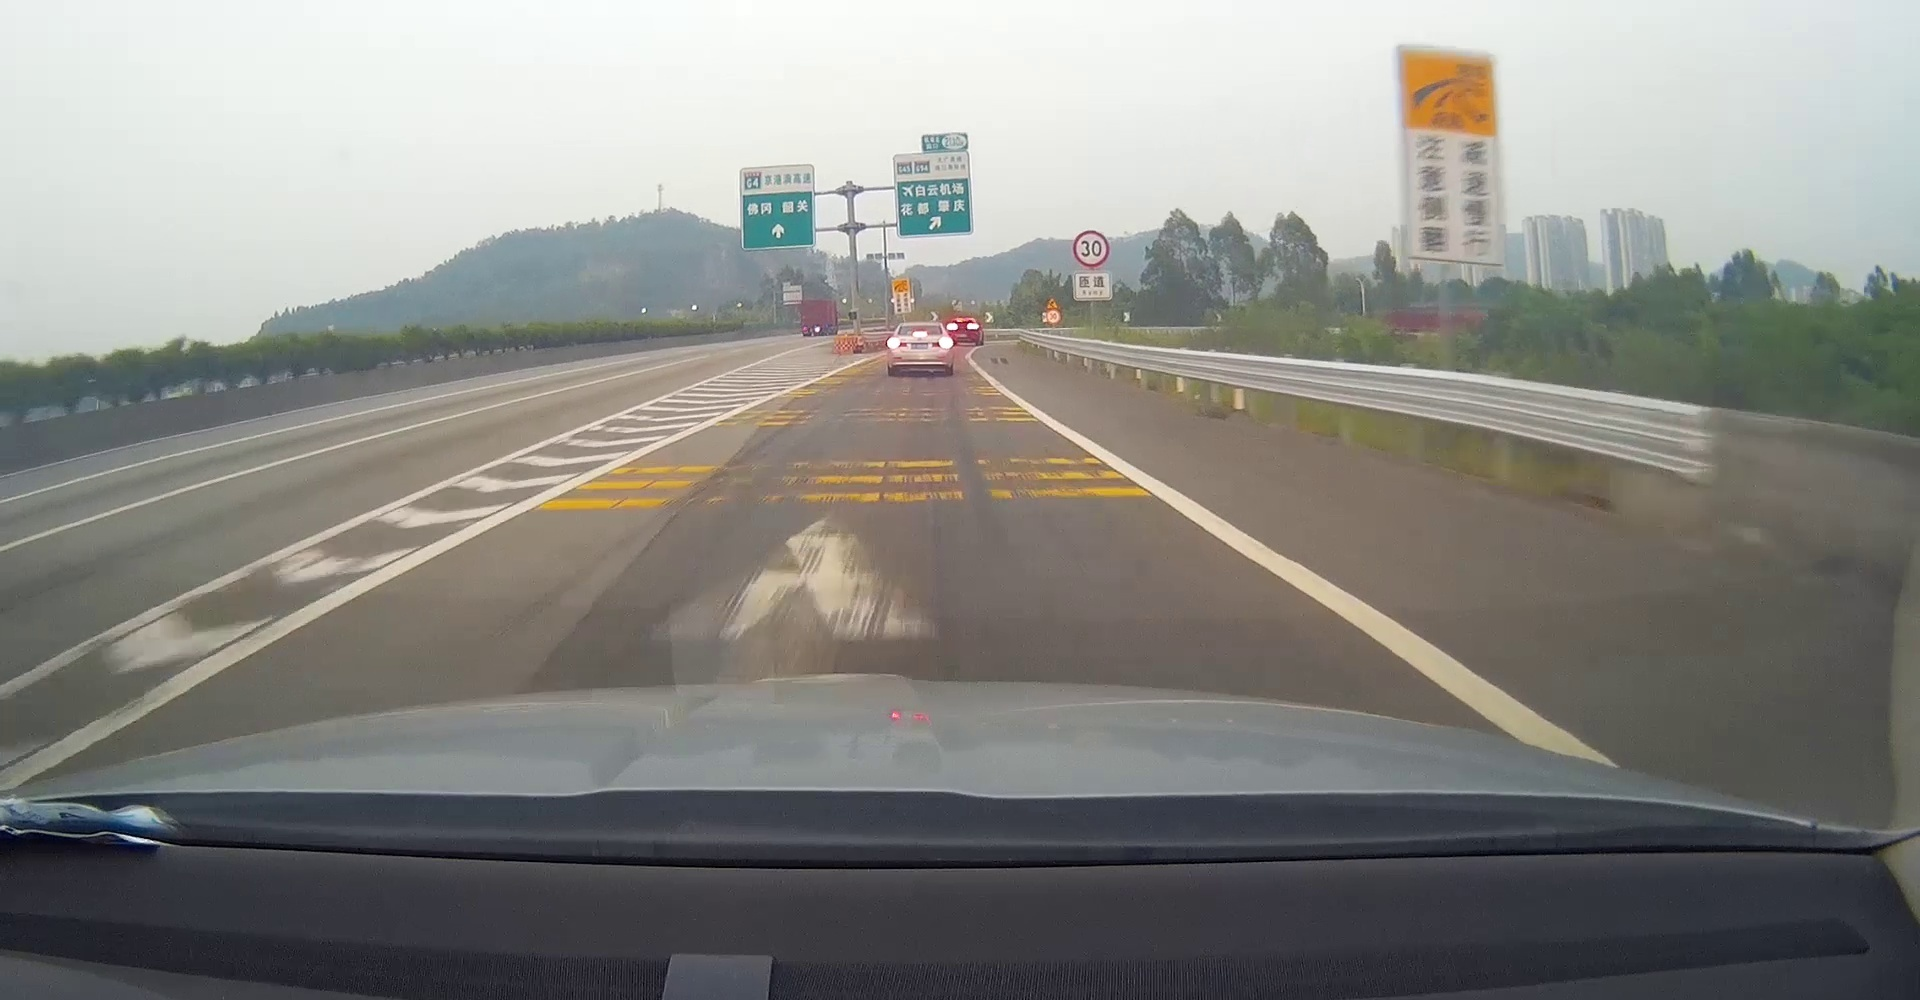L_light: (888, 338, 907, 348)
R_light: (931, 338, 952, 348)
T_light: (913, 331, 928, 338)
day-brake: (886, 322, 952, 376)
